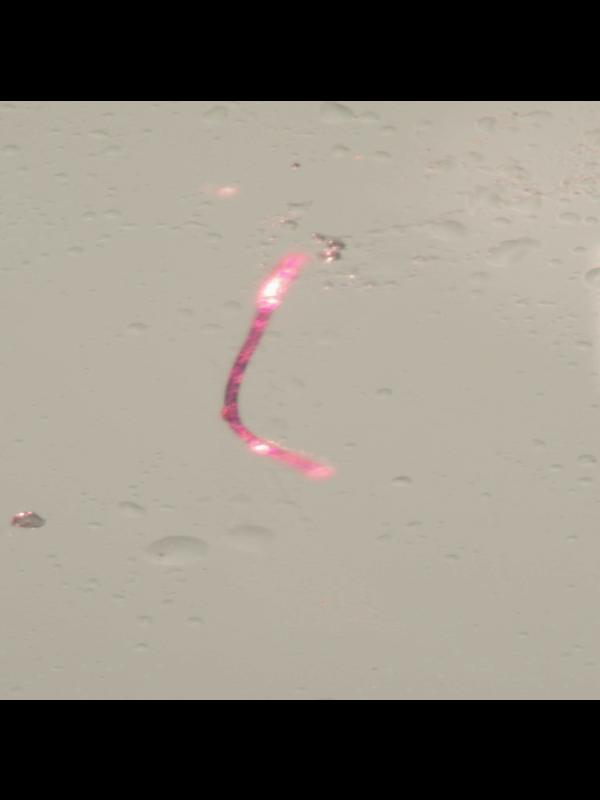microplastic: (220, 251, 339, 479)
